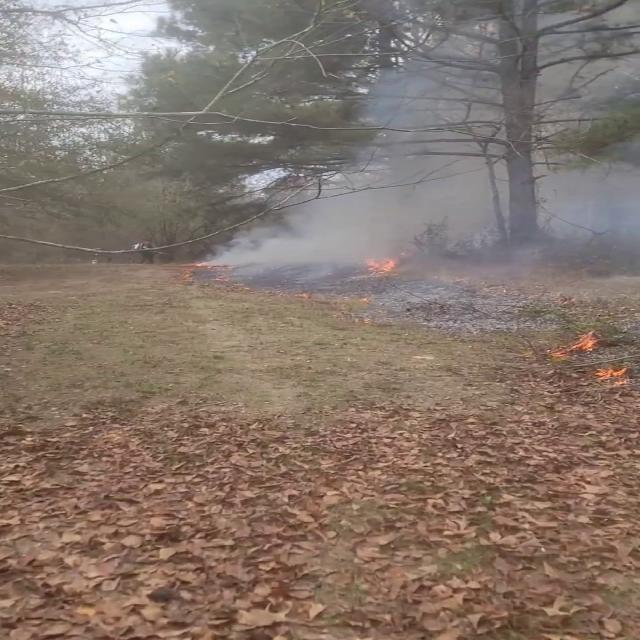Fire: (357, 250, 403, 280)
Smoke: (208, 2, 640, 302)
